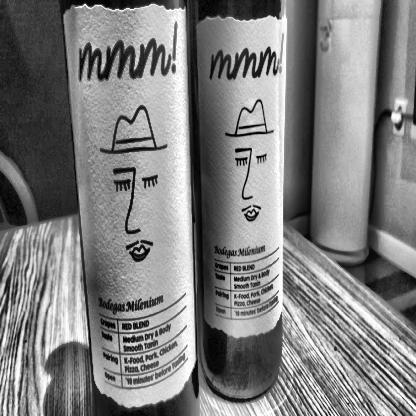umm: (61, 0, 197, 403), (194, 18, 288, 339)
